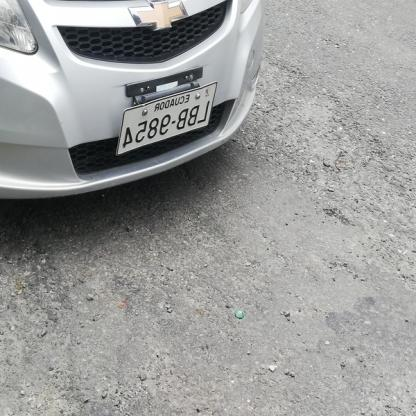Placa: (115, 82, 219, 160)
